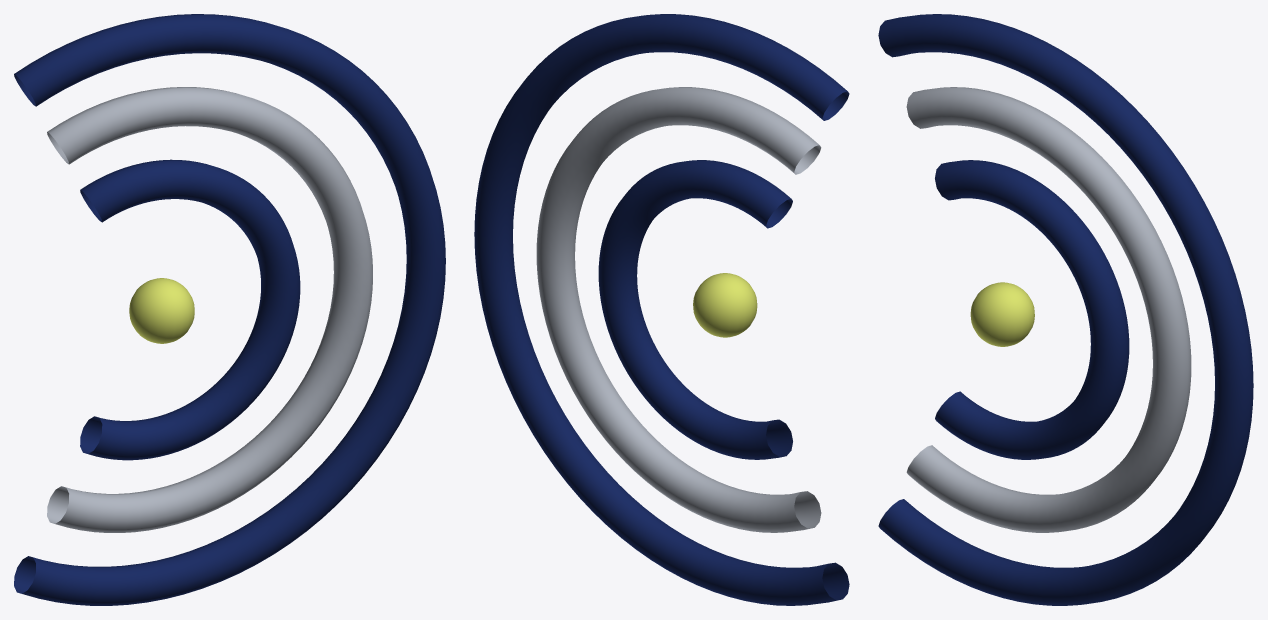
3 views of the same model, side by side, from view 1: azimuth 30°, elevation 25°; view 2: azimuth 150°, elevation 25°; view 3: azimuth 330°, elevation 25° (orthographic).
Parts seen in each view (by area): view 1: outward voice wavefront (×3), signal node; view 2: outward voice wavefront (×3), signal node; view 3: outward voice wavefront (×3), signal node.
Part boxes in pixels (x1,y1,x2,y2): outward voice wavefront (×3): (14, 14, 445, 605); signal node: (129, 278, 194, 343); outward voice wavefront (×3): (474, 14, 849, 605); signal node: (693, 273, 757, 337); outward voice wavefront (×3): (878, 14, 1253, 605); signal node: (970, 282, 1034, 346).
Size of the model in its own units: 1.4 by 1.94 by 0.2775.
